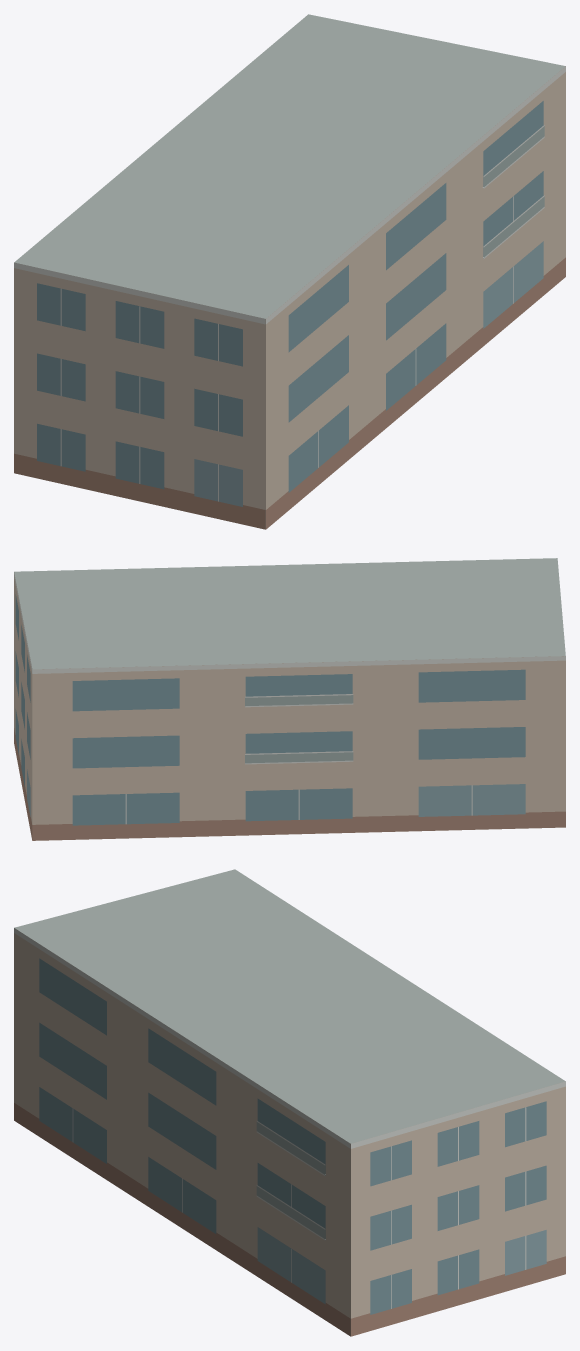
File: survey-upis-33006937.glb
3 renders of one model, top to bottom at view 1: azimuth 30°, elevation 25°; view 2: azimuth 150°, elevation 25°; view 3: azimuth 270°, elevation 25°, orthographic. The views are drawn at different scales.
Visible parts, largest first — view 1: survey-upis-33006937.tmp; view 2: survey-upis-33006937.tmp; view 3: survey-upis-33006937.tmp.
Part boxes in pixels (box(x1,y1,x2,y2)): survey-upis-33006937.tmp: box(14, 14, 565, 529); survey-upis-33006937.tmp: box(14, 558, 565, 840); survey-upis-33006937.tmp: box(14, 869, 565, 1336).
Size of the model in its own units: 27.95 by 9.15 by 23.74.
